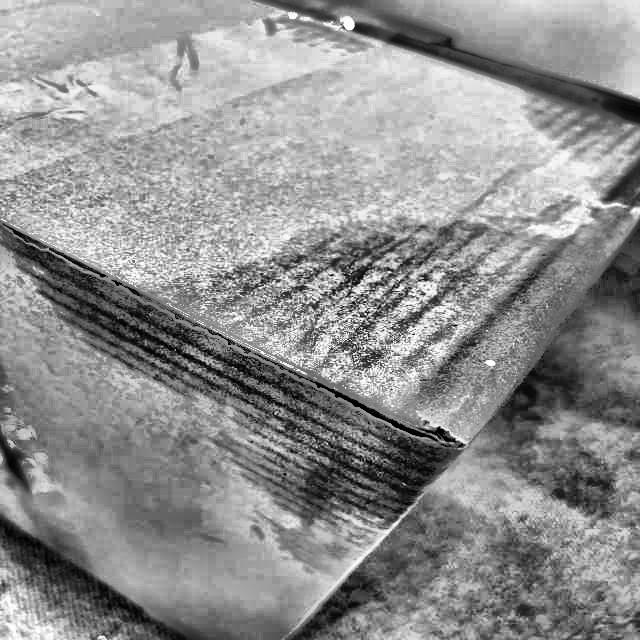box: (0, 0, 640, 640)
wet: (175, 221, 597, 569)
